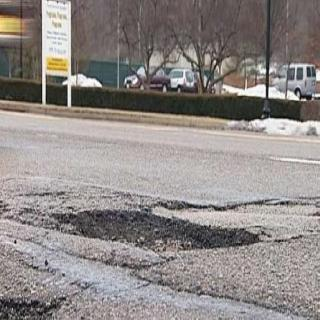pothole: (56, 210, 262, 251)
